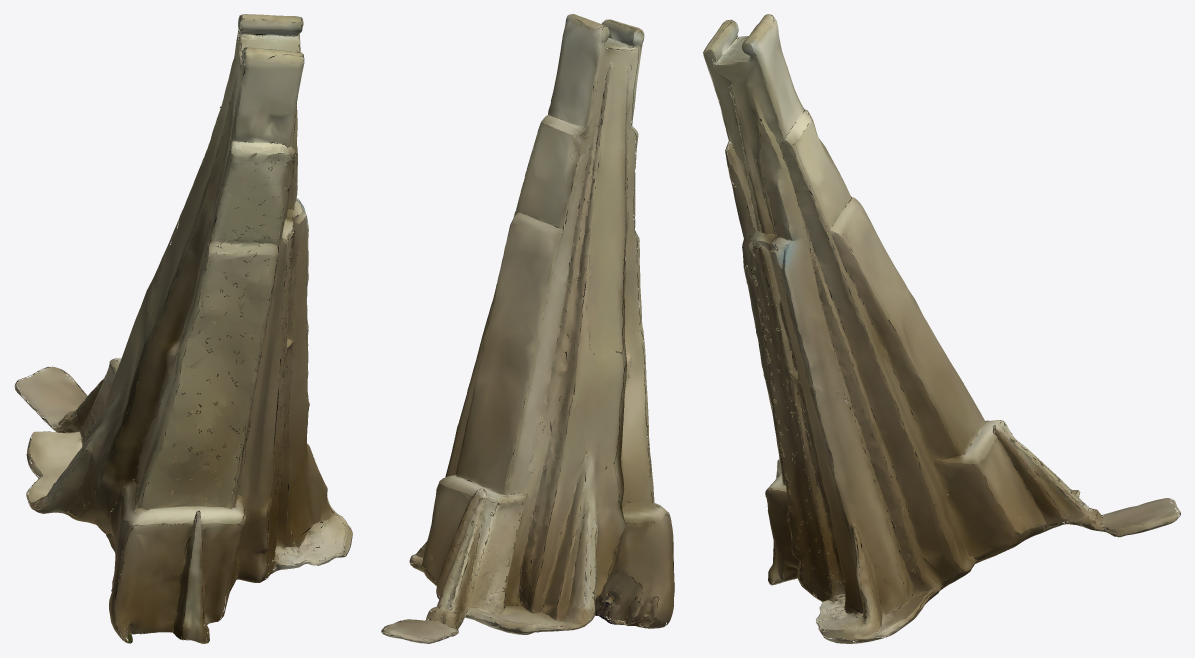
The model's file is jedha-kyber-temple.hq.glb.
3 renders of one model, left to right at view 1: azimuth 30°, elevation 25°; view 2: azimuth 150°, elevation 25°; view 3: azimuth 270°, elevation 25°, orthographic. The views are drawn at different scales.
Visible parts, largest first — view 1: low; view 2: low; view 3: low.
Part boxes in pixels (x1,y1,x2,y2): low: [14, 14, 352, 643]; low: [381, 14, 674, 643]; low: [703, 14, 1180, 643].
Bounding box in the file's own units: 0.3741 × 0.8607 × 0.6308.
Materials: 1 (1 with a texture image).
